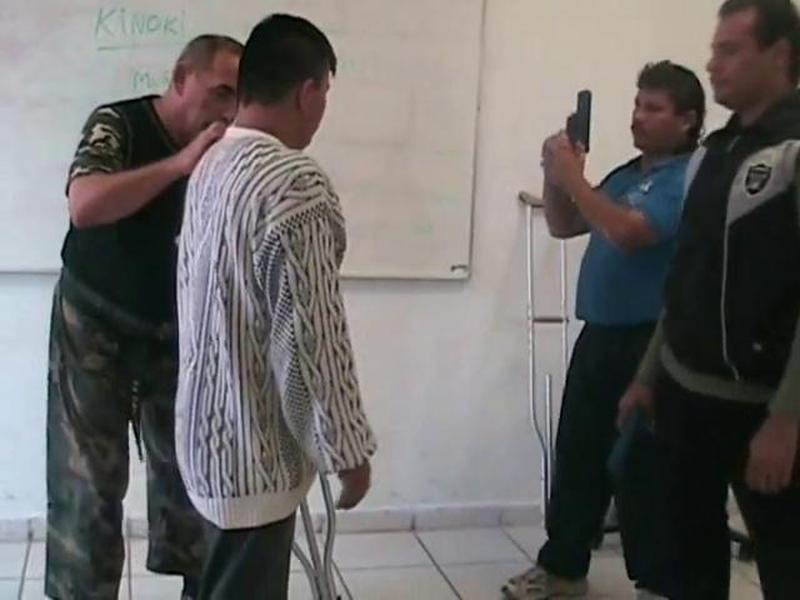Pistola: (549, 77, 610, 180)
